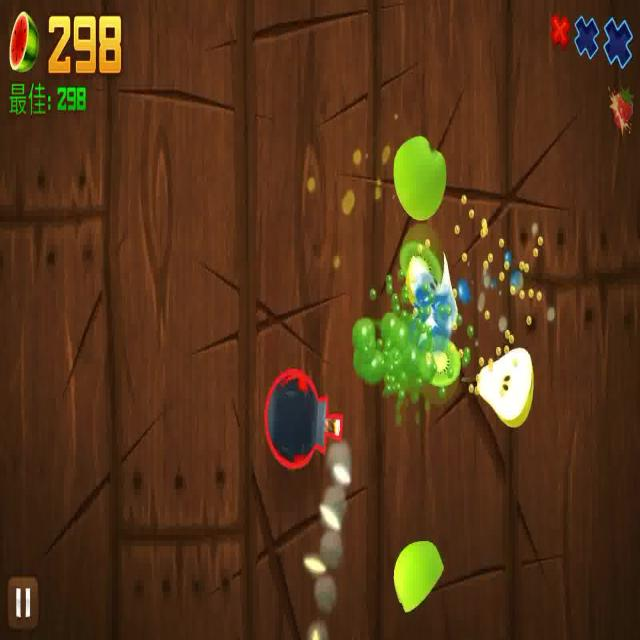bomb: (263, 365, 352, 466)
fruit: (391, 133, 448, 220), (471, 348, 534, 426), (393, 538, 444, 612), (416, 333, 464, 408), (399, 226, 445, 300)
